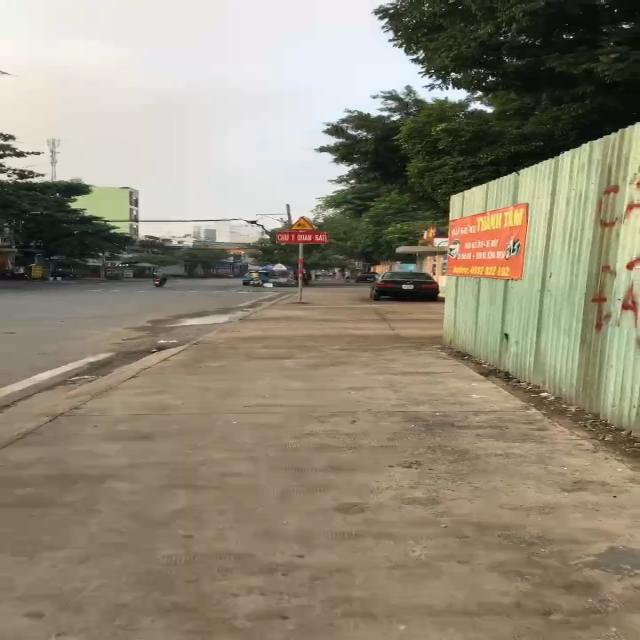Bien bao tre em: (285, 215, 320, 231)
